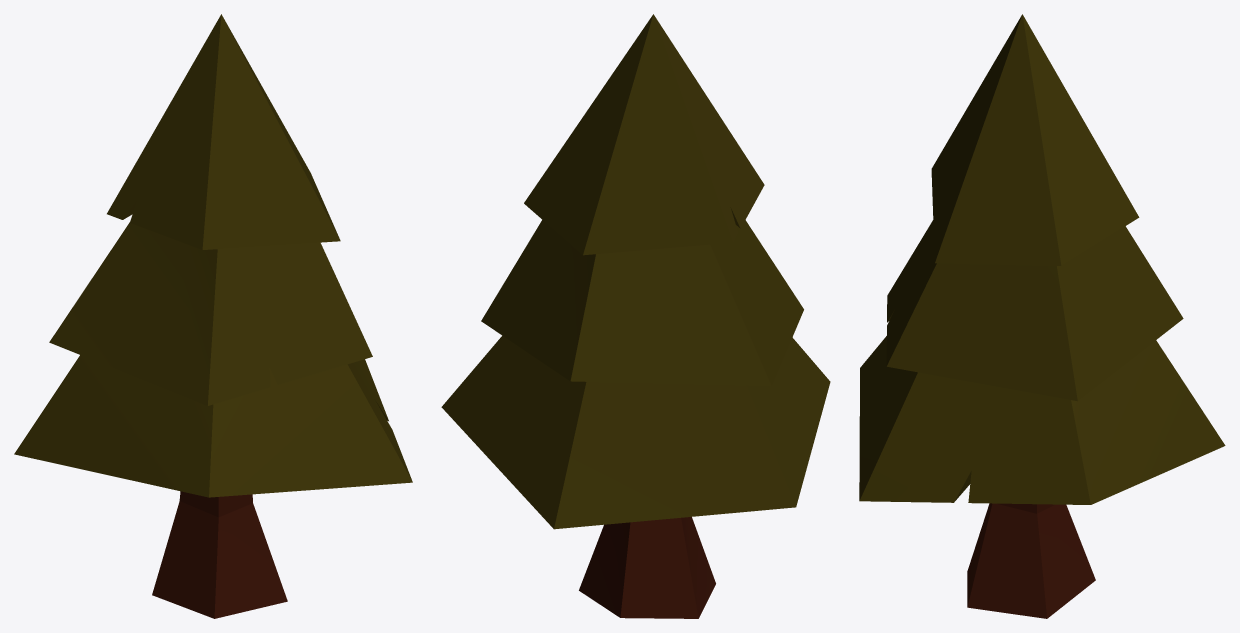
Rendered from PineTree2.fbx.glb.
3 views of the same model, side by side, from view 1: azimuth 30°, elevation 25°; view 2: azimuth 150°, elevation 25°; view 3: azimuth 270°, elevation 25° (orthographic).
Visible parts, largest first — view 1: PineTree2; view 2: PineTree2; view 3: PineTree2.
Part boxes in pixels (bbox=[...]): PineTree2: bbox=[14, 14, 412, 618]; PineTree2: bbox=[441, 14, 830, 618]; PineTree2: bbox=[859, 14, 1225, 618].
Bounding box in the file's own units: 202 × 319 × 184.
